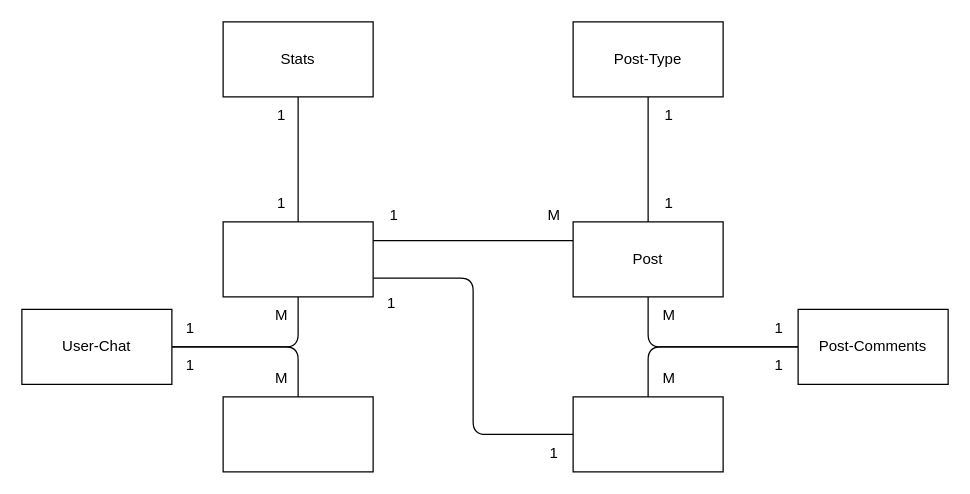
This 970x494 diagram has some shape labels left out. The box of each missing label's shape, as (x1, y1, x2, y2) in pixels:
Comments: (572, 396, 723, 472)
Messages: (222, 396, 373, 472)
User: (222, 221, 373, 297)
